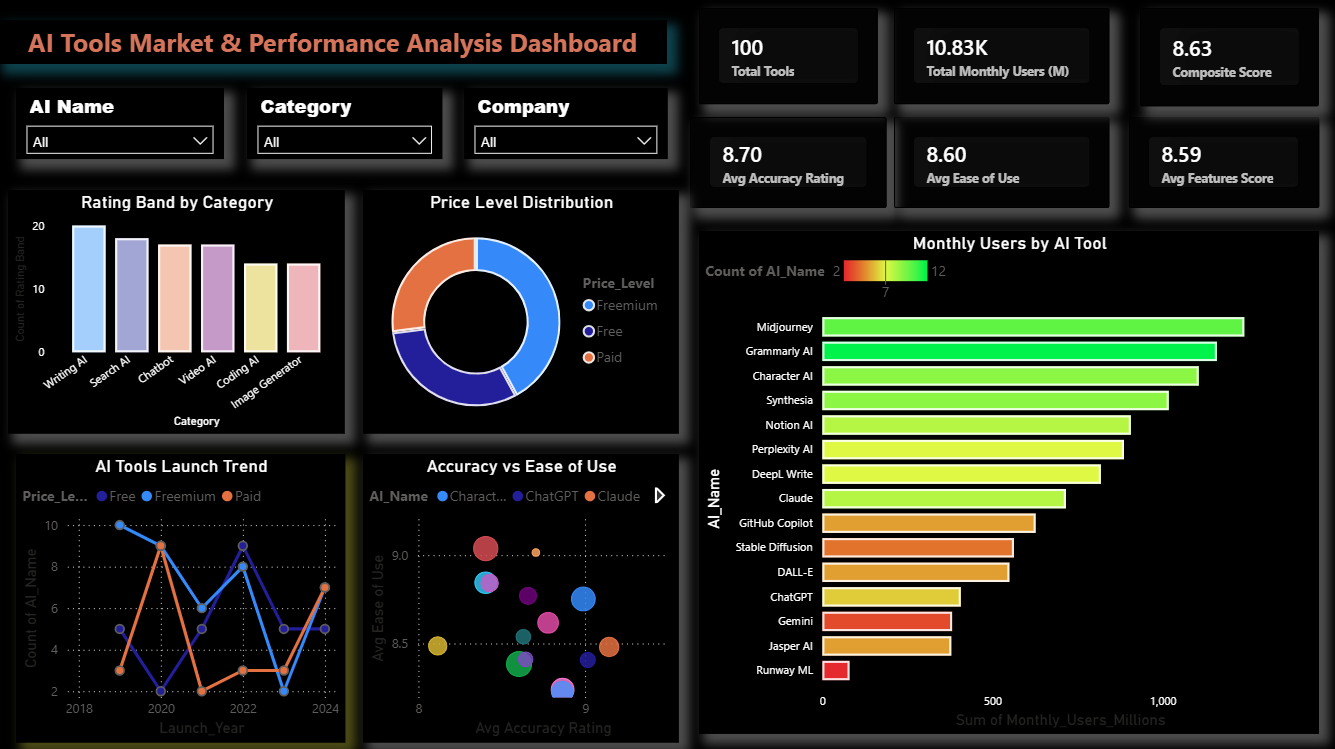

This screenshot's page, from the dashboard's own definition file:
{"tool":"powerbi","page":{"name":"Page 1","canvas":[1280,720],"ordinal":0},"visuals":[{"type":"columnChart","title":"Rating Band by Category","fields":{"Category":["ai_tools_powerbi_dataset_100.Category"],"Y":["CountNonNull(ai_tools_powerbi_dataset_100.Rating Band)"]},"box":[9.6,181.6,322.2,233.2],"z":0},{"type":"cardVisual","fields":{"Data":["ai_tools_powerbi_dataset_100.Total Tools"]},"box":[671.1,7.6,171.1,91.8],"z":1000},{"type":"textbox","box":[0,18.8,640.3,42.1],"z":2000},{"type":"slicer","fields":{"Values":["ai_tools_powerbi_dataset_100.AI_Name"]},"box":[17.2,84.1,198.8,67.9],"z":3000},{"type":"slicer","fields":{"Values":["ai_tools_powerbi_dataset_100.Company"]},"box":[445.5,84.1,195,67.9],"z":4000},{"type":"slicer","fields":{"Values":["ai_tools_powerbi_dataset_100.Category"]},"box":[238,84.1,187.4,67.9],"z":5000},{"type":"cardVisual","fields":{"Data":["ai_tools_powerbi_dataset_100.Avg Accuracy Rating"]},"box":[662.5,111.8,188.3,87],"z":6000},{"type":"cardVisual","fields":{"Data":["ai_tools_powerbi_dataset_100.Avg Ease of Use"]},"box":[857.5,111.8,206.5,87],"z":7000},{"type":"cardVisual","fields":{"Data":["ai_tools_powerbi_dataset_100.Avg Features Score"]},"box":[1082.1,111.8,181.6,87],"z":8000},{"type":"cardVisual","fields":{"Data":["ai_tools_powerbi_dataset_100.Total Monthly Users (M)"]},"box":[857.5,7.6,206.5,91.8],"z":9000},{"type":"cardVisual","fields":{"Data":["ai_tools_powerbi_dataset_100.Composite Score"]},"box":[1092.6,7.6,171.1,93.7],"z":10000},{"type":"donutChart","title":"Price Level Distribution","fields":{"Y":["CountNonNull(ai_tools_powerbi_dataset_100.AI_Name)"],"Category":["ai_tools_powerbi_dataset_100.Price_Level"]},"box":[348.9,181.6,302.1,233.2],"z":11000},{"type":"lineChart","title":"AI Tools Launch Trend","fields":{"Category":["ai_tools_powerbi_dataset_100.Launch_Year"],"Series":["ai_tools_powerbi_dataset_100.Price_Level"],"Y":["CountNonNull(ai_tools_powerbi_dataset_100.AI_Name)"]},"box":[17.2,434,314.5,276.3],"z":12000},{"type":"scatterChart","title":"Accuracy vs Ease of Use","fields":{"X":["ai_tools_powerbi_dataset_100.Avg Accuracy Rating"],"Y":["ai_tools_powerbi_dataset_100.Avg Ease of Use"],"Size":["ai_tools_powerbi_dataset_100.Total Monthly Users (M)"],"Category":["ai_tools_powerbi_dataset_100.AI_Name"],"Series":["ai_tools_powerbi_dataset_100.AI_Name"]},"box":[348.9,434,302.1,276.3],"z":13000},{"type":"clusteredBarChart","title":"Monthly Users by AI Tool","fields":{"Category":["ai_tools_powerbi_dataset_100.AI_Name"],"Y":["Sum(ai_tools_powerbi_dataset_100.Monthly_Users_Millions)"]},"box":[670.6,221,593,481.4],"z":14000}]}

Visuals, with their boxes in screenshot pixels (x1, y1, x2, y2), scaled from the page's 1280x720 canvas onto the 1335x749 screenshot:
"Rating Band by Category" columnChart: [x1=10, y1=189, x2=346, y2=432]
cardVisual - ai_tools_powerbi_dataset_100.Total Tools: [x1=700, y1=8, x2=878, y2=103]
textbox: [x1=0, y1=20, x2=668, y2=63]
slicer - ai_tools_powerbi_dataset_100.AI_Name: [x1=18, y1=87, x2=225, y2=158]
slicer - ai_tools_powerbi_dataset_100.Company: [x1=465, y1=87, x2=668, y2=158]
slicer - ai_tools_powerbi_dataset_100.Category: [x1=248, y1=87, x2=444, y2=158]
cardVisual - ai_tools_powerbi_dataset_100.Avg Accuracy Rating: [x1=691, y1=116, x2=887, y2=207]
cardVisual - ai_tools_powerbi_dataset_100.Avg Ease of Use: [x1=894, y1=116, x2=1110, y2=207]
cardVisual - ai_tools_powerbi_dataset_100.Avg Features Score: [x1=1129, y1=116, x2=1318, y2=207]
cardVisual - ai_tools_powerbi_dataset_100.Total Monthly Users (M): [x1=894, y1=8, x2=1110, y2=103]
cardVisual - ai_tools_powerbi_dataset_100.Composite Score: [x1=1140, y1=8, x2=1318, y2=105]
"Price Level Distribution" donutChart: [x1=364, y1=189, x2=679, y2=432]
"AI Tools Launch Trend" lineChart: [x1=18, y1=451, x2=346, y2=739]
"Accuracy vs Ease of Use" scatterChart: [x1=364, y1=451, x2=679, y2=739]
"Monthly Users by AI Tool" clusteredBarChart: [x1=699, y1=230, x2=1318, y2=731]
